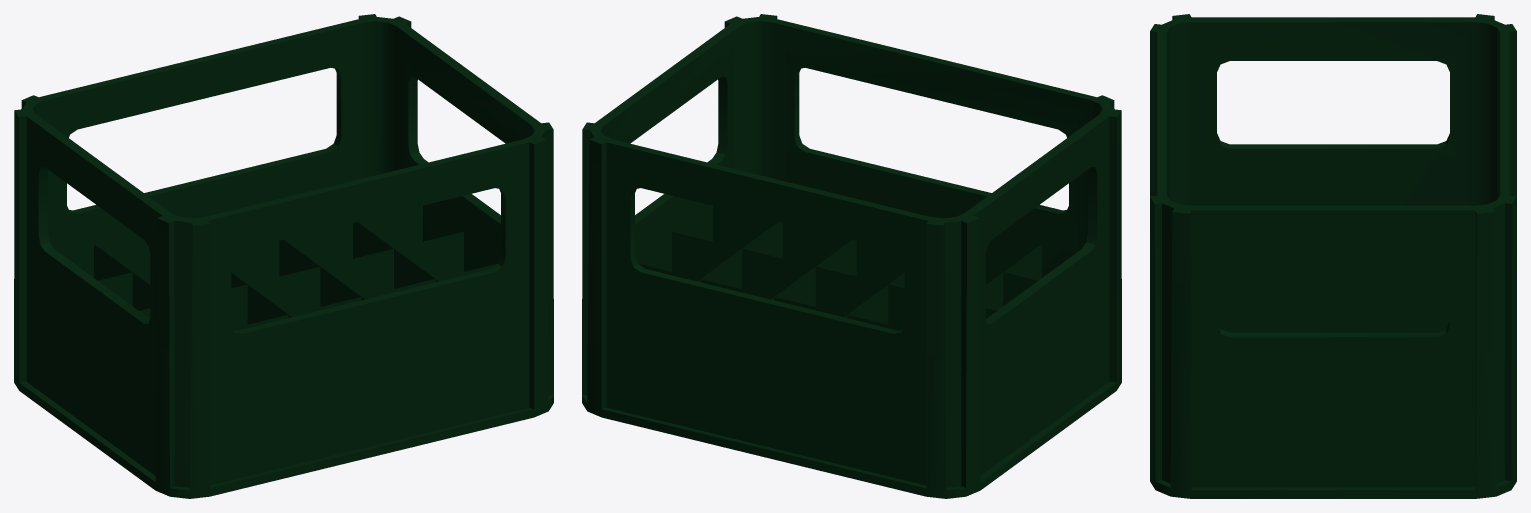
The model's file is BeerCreate2.fbx.
3 views of the same model, side by side, from view 1: azimuth 30°, elevation 25°; view 2: azimuth 150°, elevation 25°; view 3: azimuth 270°, elevation 25° (orthographic). The views are drawn at different scales.
Visible parts, largest first — view 1: SM_BeerCrate_empty_LOD0; view 2: SM_BeerCrate_empty_LOD0; view 3: SM_BeerCrate_empty_LOD0.
Boxes of the visible parts, x1,y1,x2,y2 form: SM_BeerCrate_empty_LOD0: (14, 14, 553, 498); SM_BeerCrate_empty_LOD0: (582, 14, 1121, 498); SM_BeerCrate_empty_LOD0: (1150, 14, 1516, 498).
Size of the model in its own units: 16.53 by 10.96 by 12.8.
